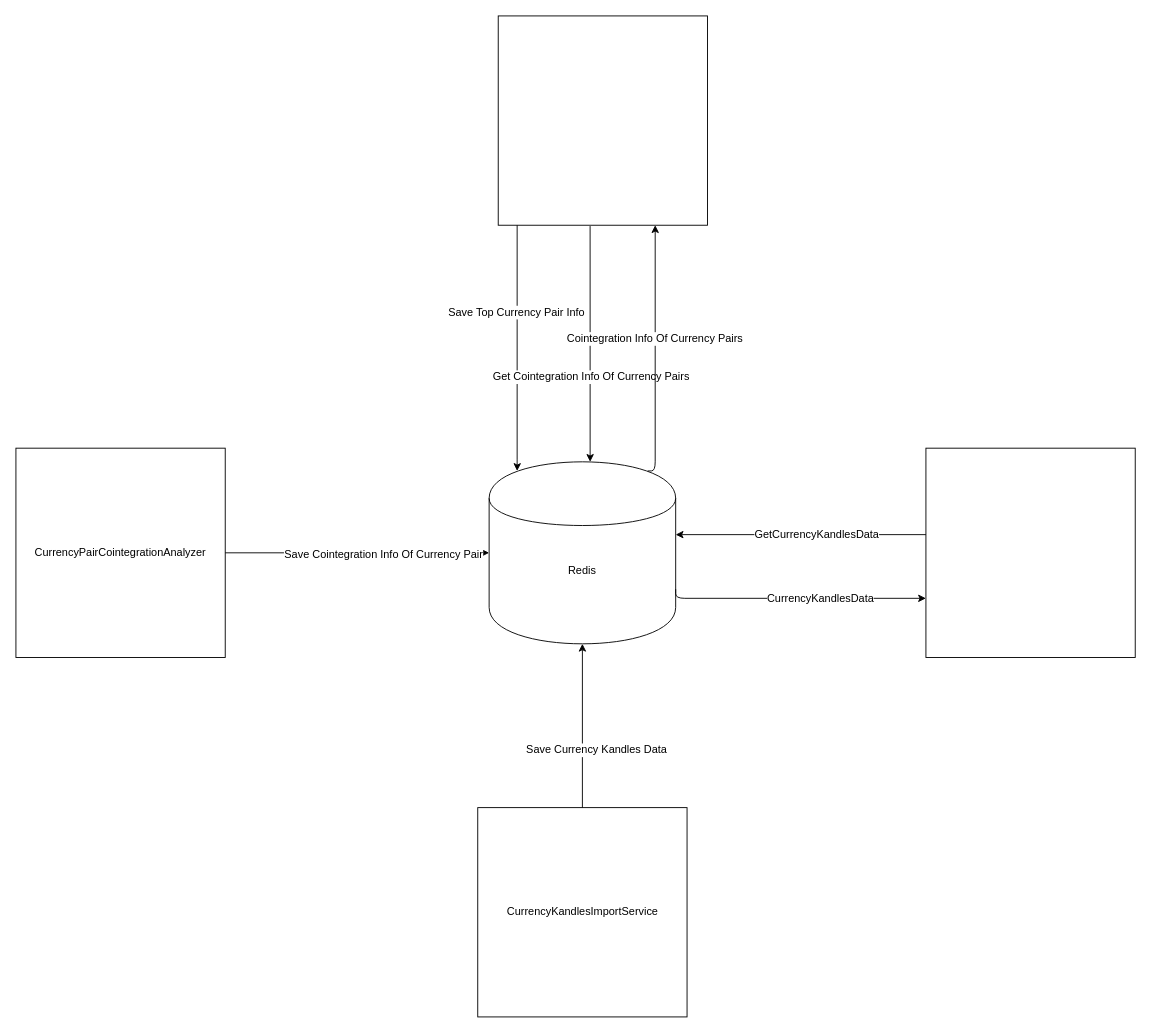
The diagram is 1151 pixels wide and 1033 high, and some of its shapes have lost their labels. The centre of each missing label's shape, as x and y in pixels:
TopCurrencyPairCalculator: the point at 602,120
TradeManager: the point at 1030,552
